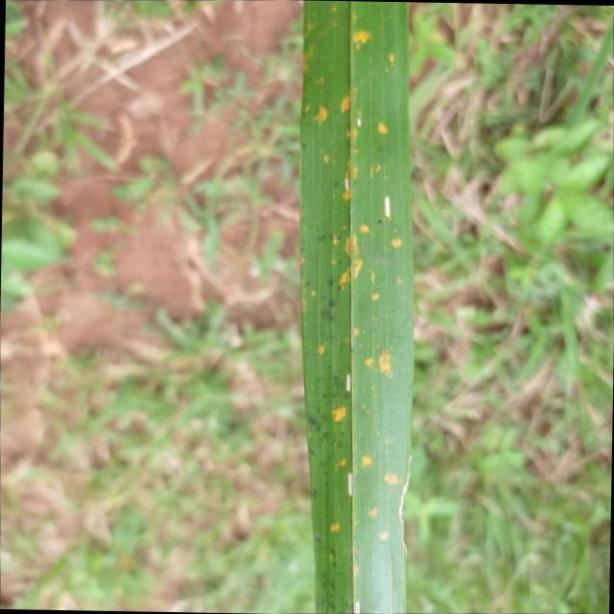Kalium: (300, 1, 417, 614)
